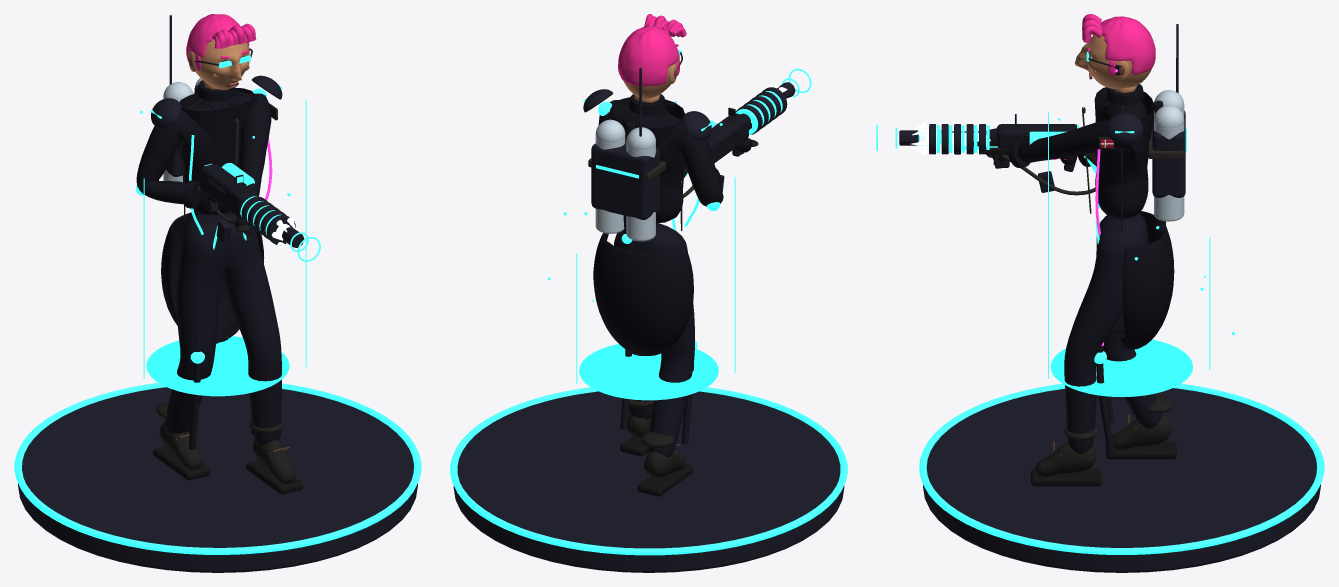
Rendered from frost_neon.glb.
3 views of the same model, side by side, from view 1: azimuth 30°, elevation 25°; view 2: azimuth 150°, elevation 25°; view 3: azimuth 270°, elevation 25° (orthographic). The views are drawn at different scales.
Visible parts, largest first — view 1: fod_net, menneske_net, op4_net, hoved_net, vaaben_net, op3.001_net, op4.001_net; view 2: fod_net, menneske_net, op3.001_net, op4_net, hoved_net, vaaben_net, op4.001_net; view 3: fod_net, menneske_net, op4_net, hoved_net, vaaben_net, op3.001_net, op4.001_net.
Boxes of the visible parts, x1,y1,x2,y2 form: fod_net: (14,383,421,572); menneske_net: (136,78,303,494); op4_net: (140,100,306,396); hoved_net: (186,14,256,89); vaaben_net: (200,163,298,247); op3.001_net: (150,15,282,176); op4.001_net: (135,85,266,450); fod_net: (450,387,847,572); menneske_net: (588,94,758,496); op3.001_net: (583,68,711,219); op4_net: (547,101,735,400); hoved_net: (618,14,686,98); vaaben_net: (681,84,792,180); op4.001_net: (598,101,719,444); fod_net: (919,383,1324,572); menneske_net: (987,84,1184,486); op4_net: (1048,112,1234,396); hoved_net: (1074,14,1155,88); vaaben_net: (910,122,1096,171); op3.001_net: (1106,24,1186,197); op4.001_net: (1094,100,1166,453).
Size of the model in its own units: 1.94 by 2.49 by 2.14.
